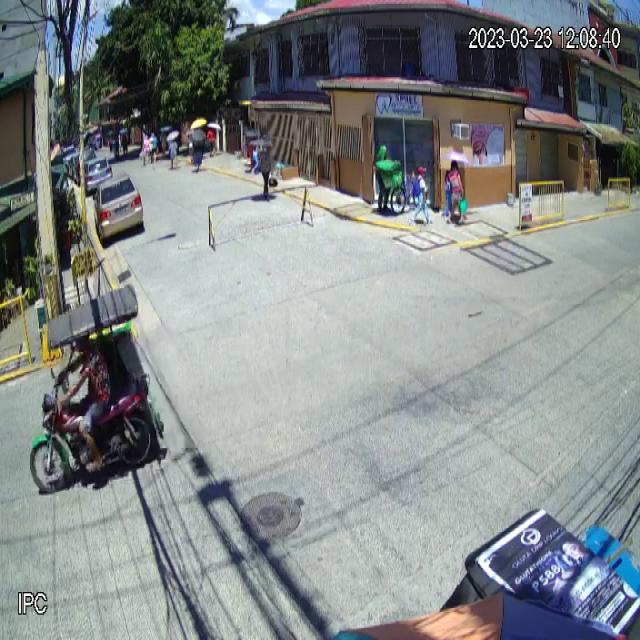Car: (92, 174, 143, 244)
Tricycle: (28, 284, 165, 497)
